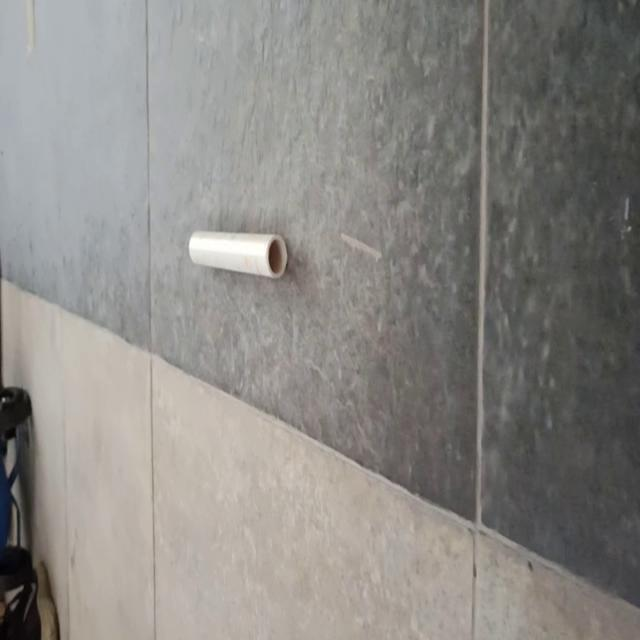Cube: (188, 229, 288, 279)
